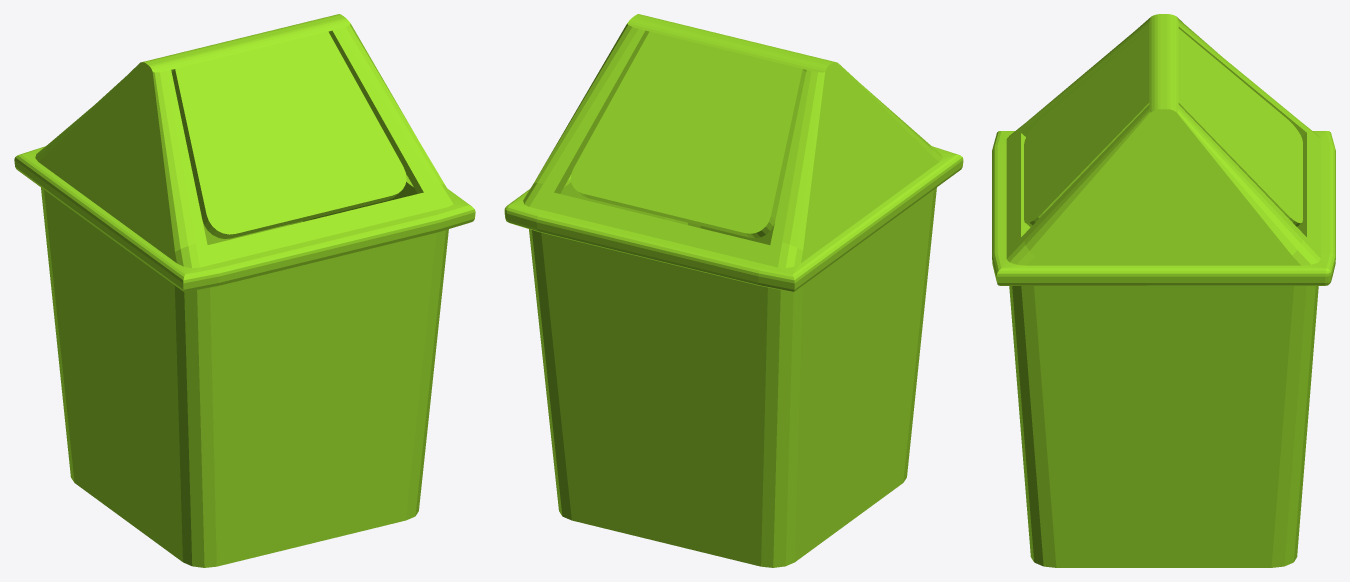
File: TachoReciclable(1).fbx
The picture shows the model from 3 angles, left to right: view 1: azimuth 30°, elevation 25°; view 2: azimuth 150°, elevation 25°; view 3: azimuth 270°, elevation 25°; orthographic projection.
Parts seen in each view (by area): view 1: Cube; view 2: Cube; view 3: Cube.
Boxes of the visible parts, x1=… form: Cube: x1=14, y1=14, x2=475, y2=567; Cube: x1=504, y1=14, x2=963, y2=567; Cube: x1=992, y1=14, x2=1335, y2=567.
Bounding box in the file's own units: 174 × 258 × 179.
